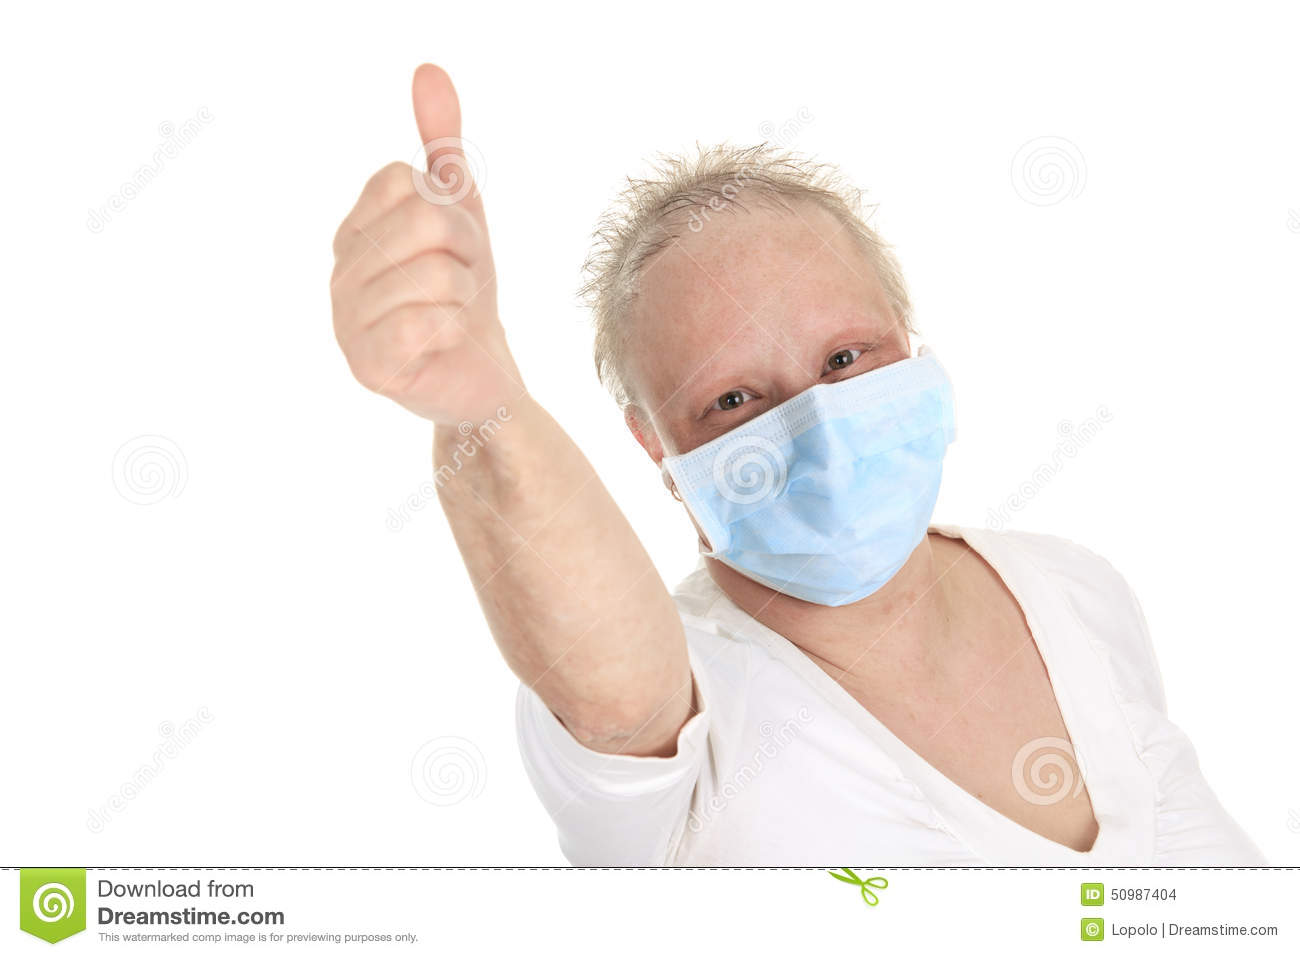mask: (672, 351, 954, 607)
